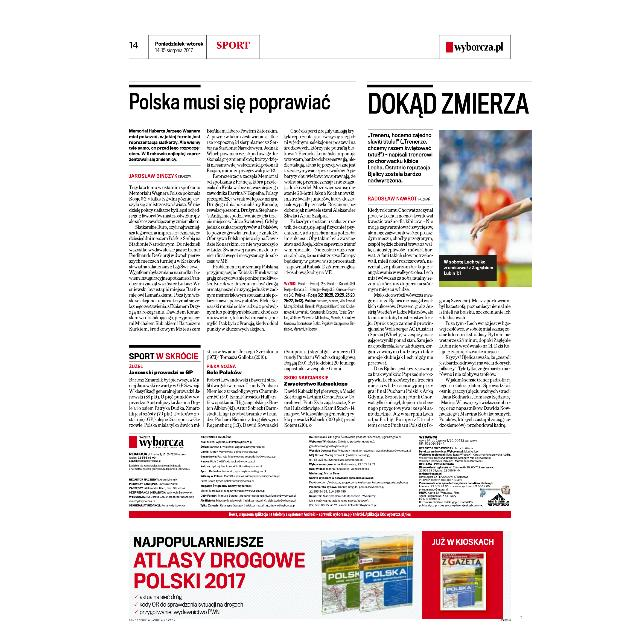article: (364, 83, 536, 431), (126, 82, 358, 334), (125, 344, 358, 431)
